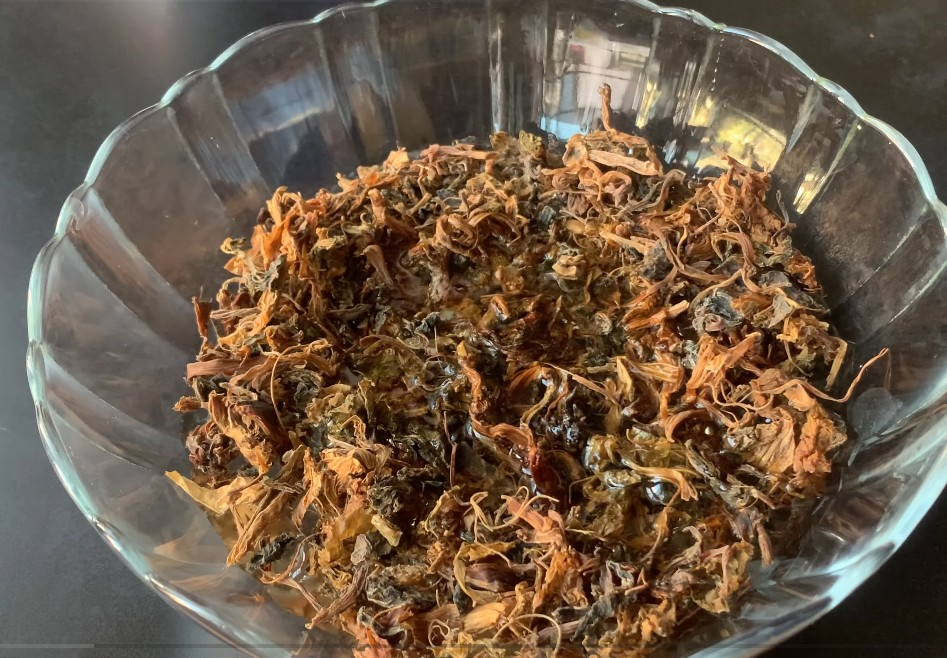gundruk: (194, 141, 824, 630)
